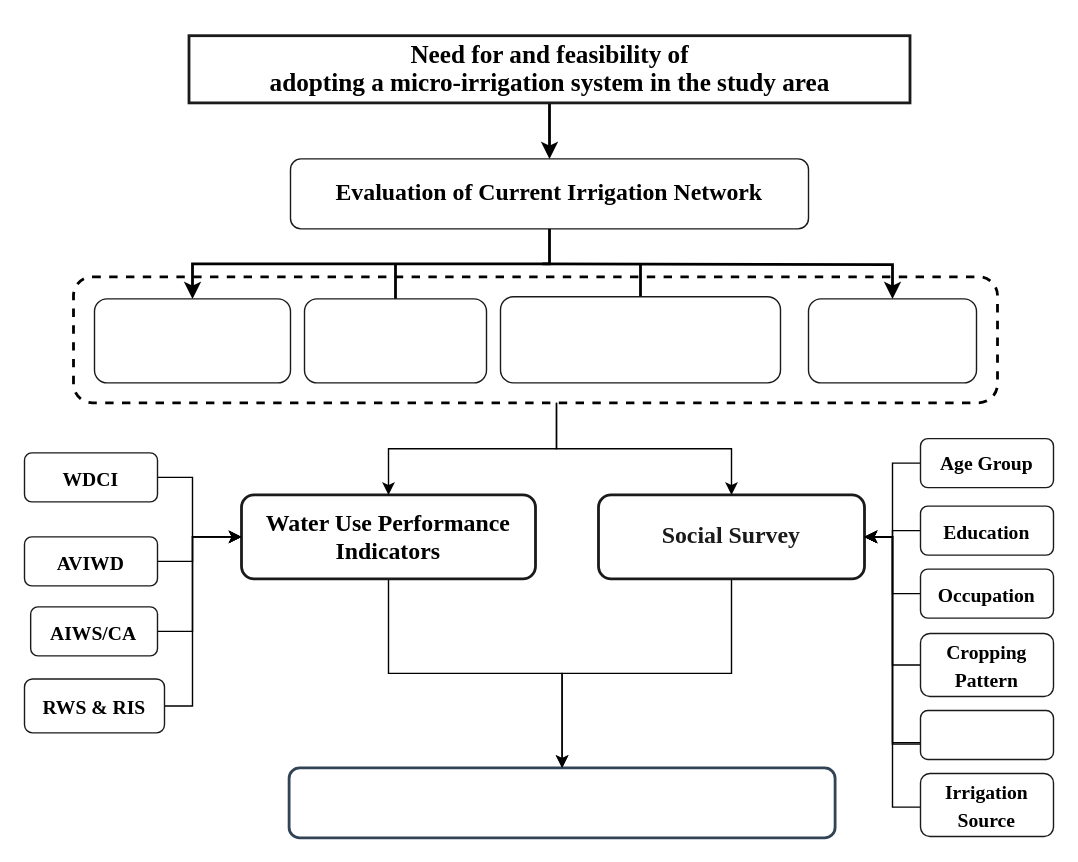
This 1078x862 diagram has some shape labels left out. Here are the shapes that lost their labels. From the top down, the centre of each, then its label:
At pixel 191 340: "Canal Survey".
At pixel 394 340: "Conveyance Efficiency".
At pixel 639 339: "Maintenance and management condition".
At pixel 891 340: "Irrigation Requirement".
At pixel 986 734: "Land Holding".
At pixel 561 802: "Feasibility Assessment of Micro Irrigation".
